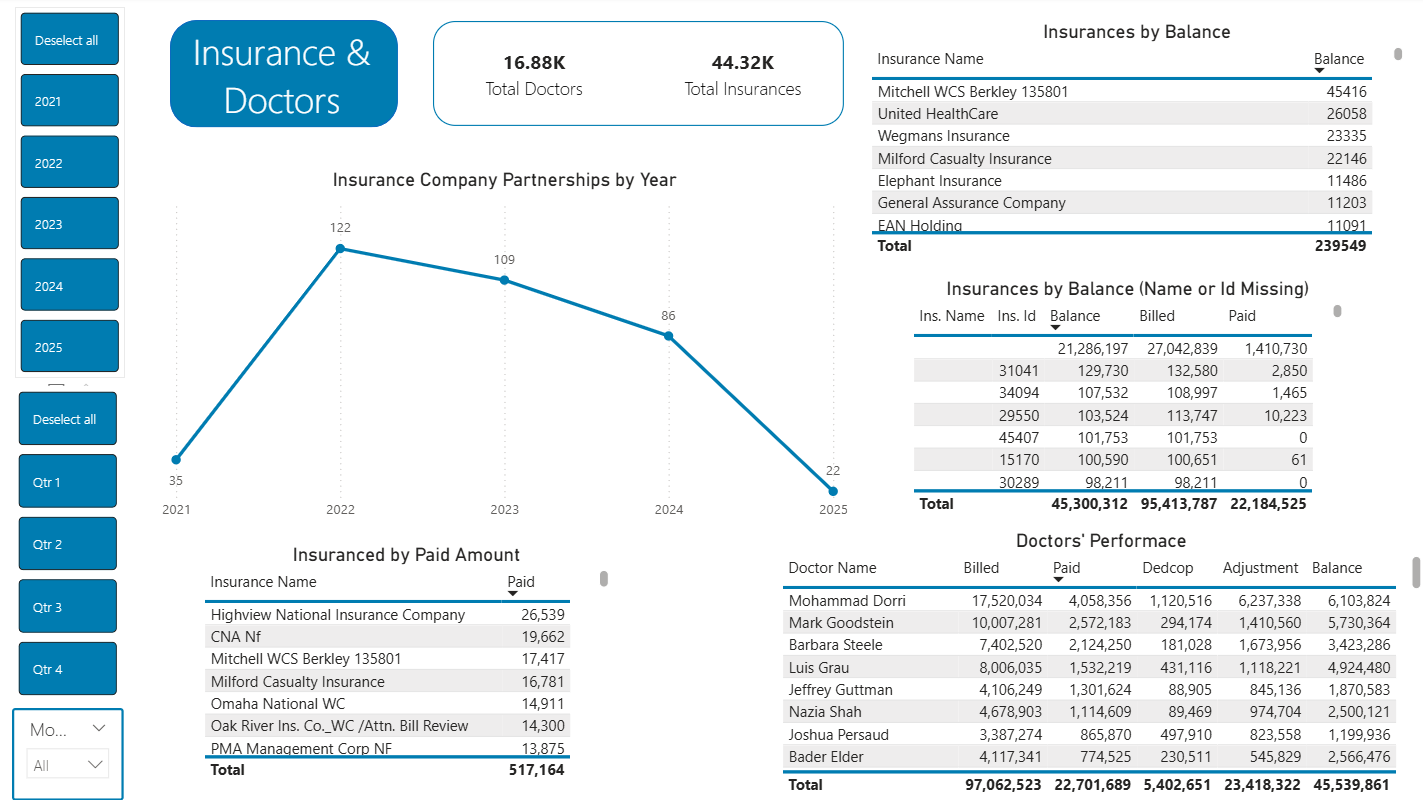

The page's visual inventory and layout, read from the dashboard file:
{"tool":"powerbi","page":{"name":"Insurances - Doctors","canvas":[1280,720],"ordinal":3},"visuals":[{"type":"tableEx","title":"Insurances by Balance","fields":{"Values":["Dim_Insurances.name","Sum(Fact_Bill_Payments.balance)"]},"box":[777.1,20.4,487.3,215.9],"z":0},{"type":"tableEx","title":"Insurances by Balance (Name or Id Missing)","fields":{"Values":["Dim_Insurances.name","Fact_Cases.insurance_id","Sum(Fact_Bill_Payments.balance)","Sum(Fact_Bill_Payments.billed)","Sum(Fact_Bill_Payments.paid)"]},"box":[815.1,250.9,394.9,216.9],"z":1000},{"type":"tableEx","title":"Insuranced by Paid Amount","fields":{"Values":["Dim_Insurances.name","Sum(Fact_Bill_Payments.paid)"]},"box":[179.9,489.2,373.5,216.9],"z":2000},{"type":"tableEx","title":"Doctors'' Performace","fields":{"Values":["Dim_Doctors.full_name","Sum(Fact_Bill_Payments.billed)","Sum(Fact_Bill_Payments.paid)","Sum(Fact_Bill_Payments.dedcop)","Sum(Fact_Bill_Payments.adjustment)","Sum(Fact_Bill_Payments.balance)"]},"box":[697.4,476.6,582.6,243.2],"z":3000},{"type":"advancedSlicerVisual","fields":{"Values":["Fact_Cases.created.Variation.Date Hierarchy.Year"]},"box":[16.5,8.8,98.2,332.6],"z":4000},{"type":"advancedSlicerVisual","fields":{"Values":["Fact_Cases.created.Variation.Date Hierarchy.Quarter"]},"box":[14.6,348.2,98.2,282.1],"z":5000},{"type":"slicer","fields":{"Values":["Fact_Cases.created.Variation.Date Hierarchy.Month"]},"box":[13.6,637.1,100.2,82.7],"z":6000},{"type":"cardVisual","fields":{"Data":["CountNonNull(Fact_Bill_Payments.doctor_id)","CountNonNull(Fact_Cases.insurance_id)"]},"box":[373.5,4.9,403.6,128.4],"z":7000},{"type":"shape","box":[154.7,20.4,204.3,96.3],"z":8000},{"type":"textbox","box":[161.5,20.4,187.7,103.1],"z":9000},{"type":"lineChart","title":"Insurance Company Partnerships by Year","fields":{"Category":["Dim_Insurances.created.Variation.Date Hierarchy.Year"],"Y":["CountNonNull(Dim_Insurances.id)"]},"box":[142,152.7,624.4,323.9],"z":10000}]}

Visuals, with their boxes in screenshot pixels (x1, y1, x2, y2), scaled from the page's 1280x720 canvas onto the 1423x800 screenshot:
"Insurances by Balance" tableEx: bbox=(864, 23, 1406, 263)
"Insurances by Balance (Name or Id Missing)" tableEx: bbox=(906, 279, 1345, 520)
"Insuranced by Paid Amount" tableEx: bbox=(200, 544, 615, 785)
"Doctors'' Performace" tableEx: bbox=(775, 530, 1422, 799)
advancedSlicerVisual - Fact_Cases.created.Variation.Date Hierarchy.Year: bbox=(18, 10, 128, 379)
advancedSlicerVisual - Fact_Cases.created.Variation.Date Hierarchy.Quarter: bbox=(16, 387, 125, 700)
slicer - Fact_Cases.created.Variation.Date Hierarchy.Month: bbox=(15, 708, 127, 799)
cardVisual - CountNonNull(Fact_Bill_Payments.doctor_id) x CountNonNull(Fact_Cases.insurance_id): bbox=(415, 5, 864, 148)
shape: bbox=(172, 23, 399, 130)
textbox: bbox=(180, 23, 388, 137)
"Insurance Company Partnerships by Year" lineChart: bbox=(158, 170, 852, 530)
